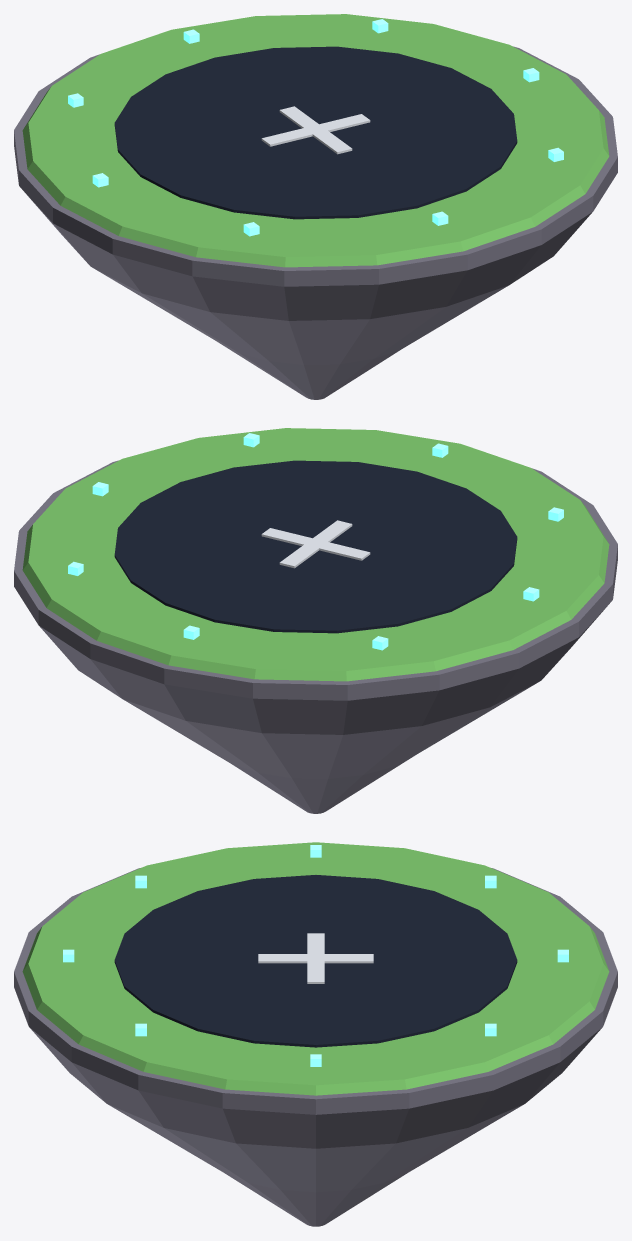
File: floating_platform.glb
3 views of the same model, one above another, from view 1: azimuth 30°, elevation 25°; view 2: azimuth 150°, elevation 25°; view 3: azimuth 270°, elevation 25° (orthographic).
Parts seen in each view (by area): view 1: LOD0; view 2: LOD0; view 3: LOD0.
Part boxes in pixels (bbox=[...]): LOD0: bbox=[14, 14, 617, 399]; LOD0: bbox=[14, 428, 617, 813]; LOD0: bbox=[14, 842, 617, 1226].
Size of what is drawn, in the model's own units: 21 by 10.35 by 21.
